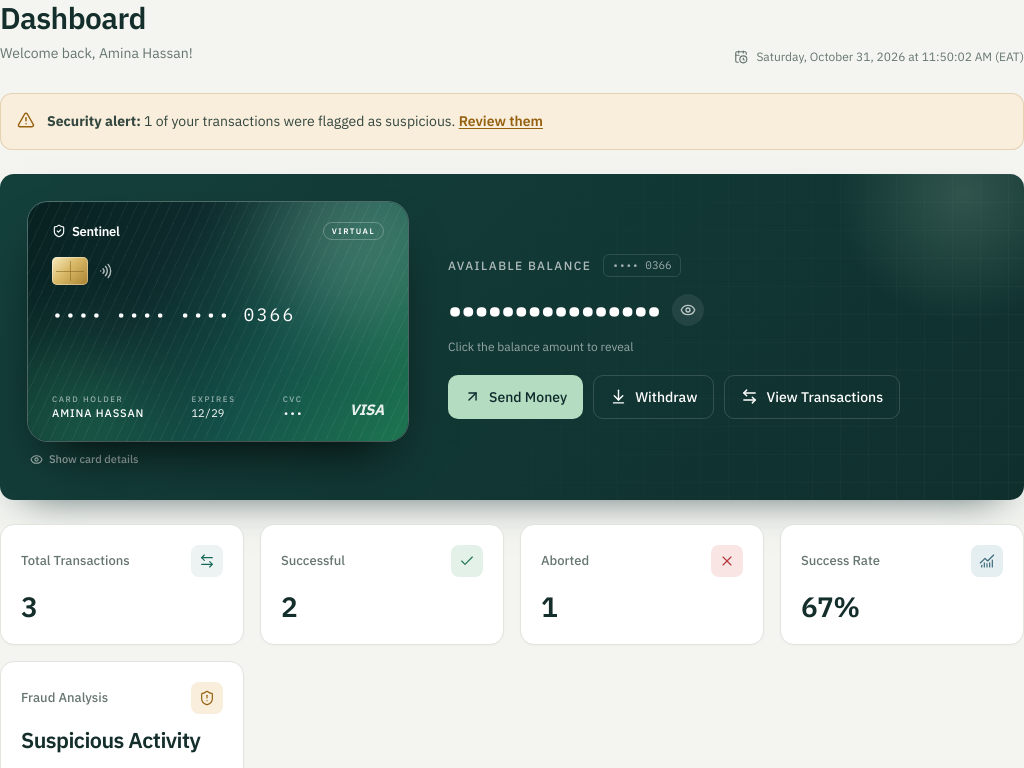
Test case: UserDashboardPage › shows the incorrect-password message
Click the button named "reveal balance" at (576, 310), box [448,289,704,331]
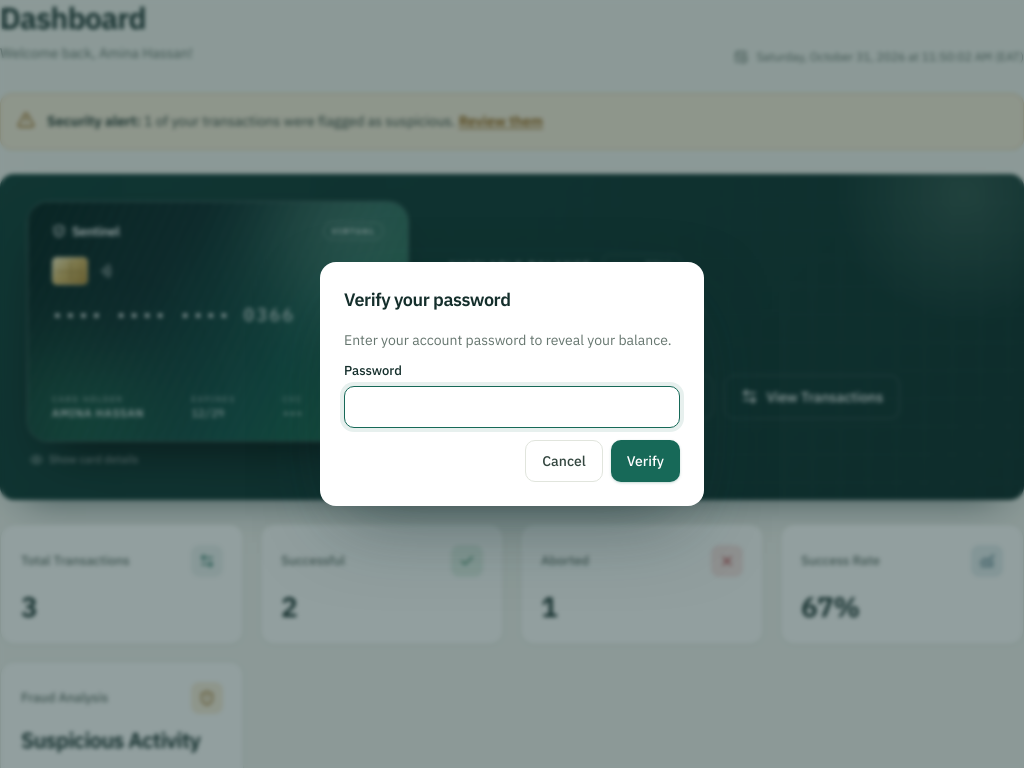
Type "nope" into the password field labelled "Password" at (512, 407), box [344,386,680,428]
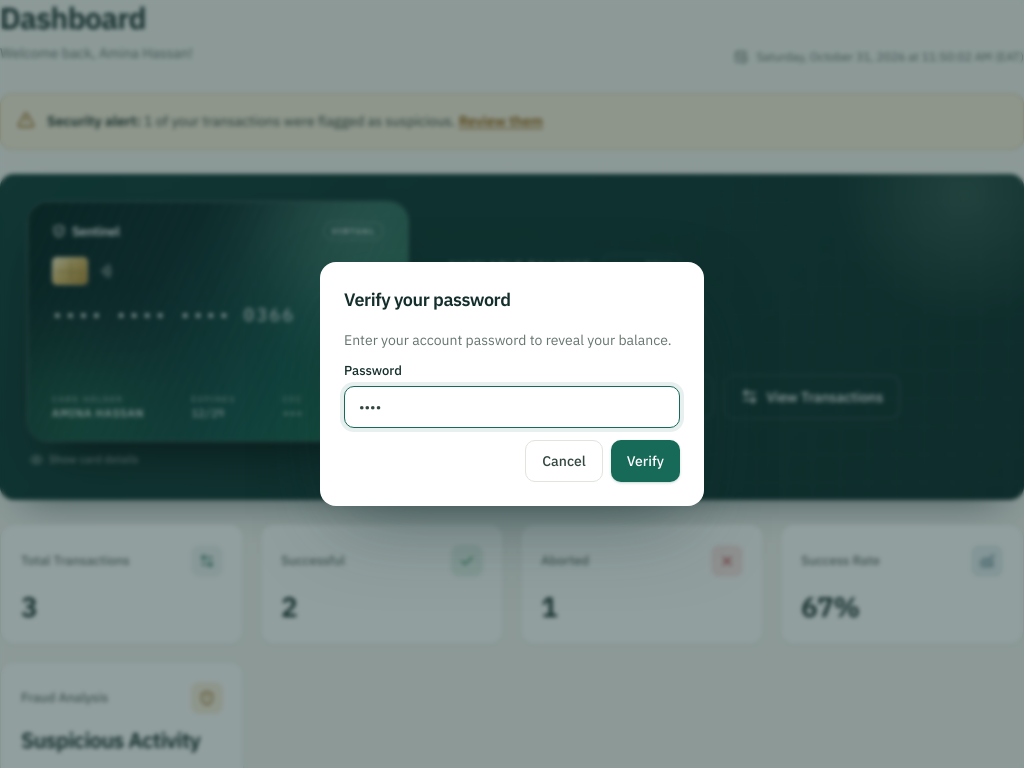
Click the button "Verify" at (645, 461), box [611,440,680,482]
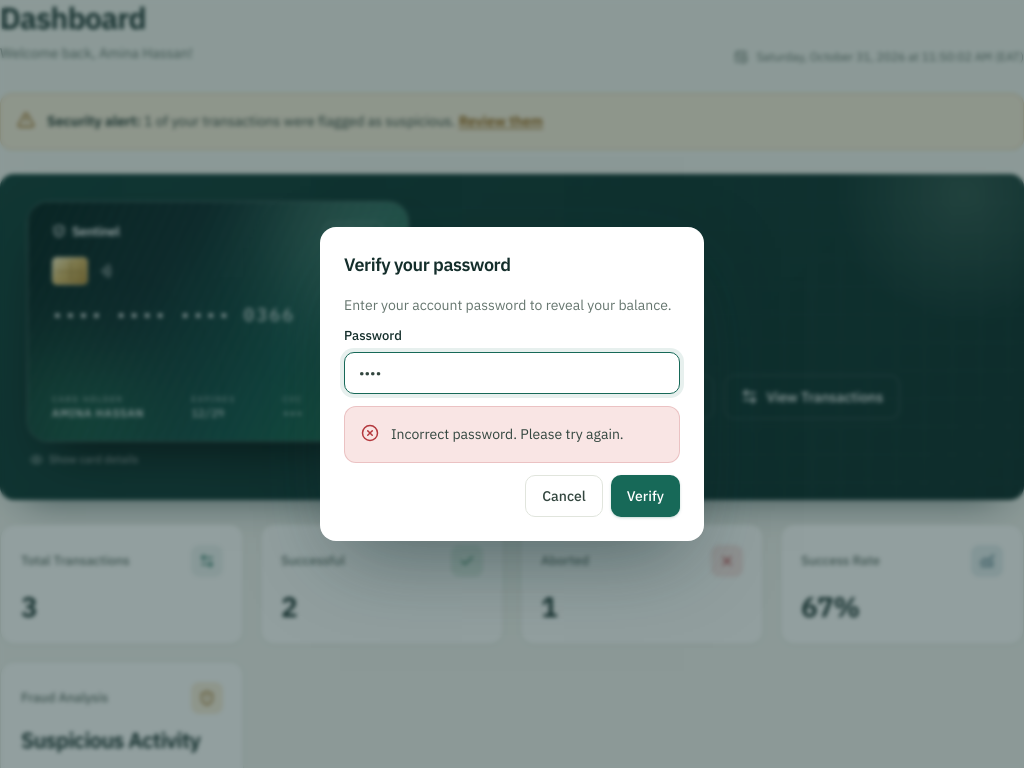
Now the text "Incorrect password. Please try again." is shown, box [391,423,663,446]
